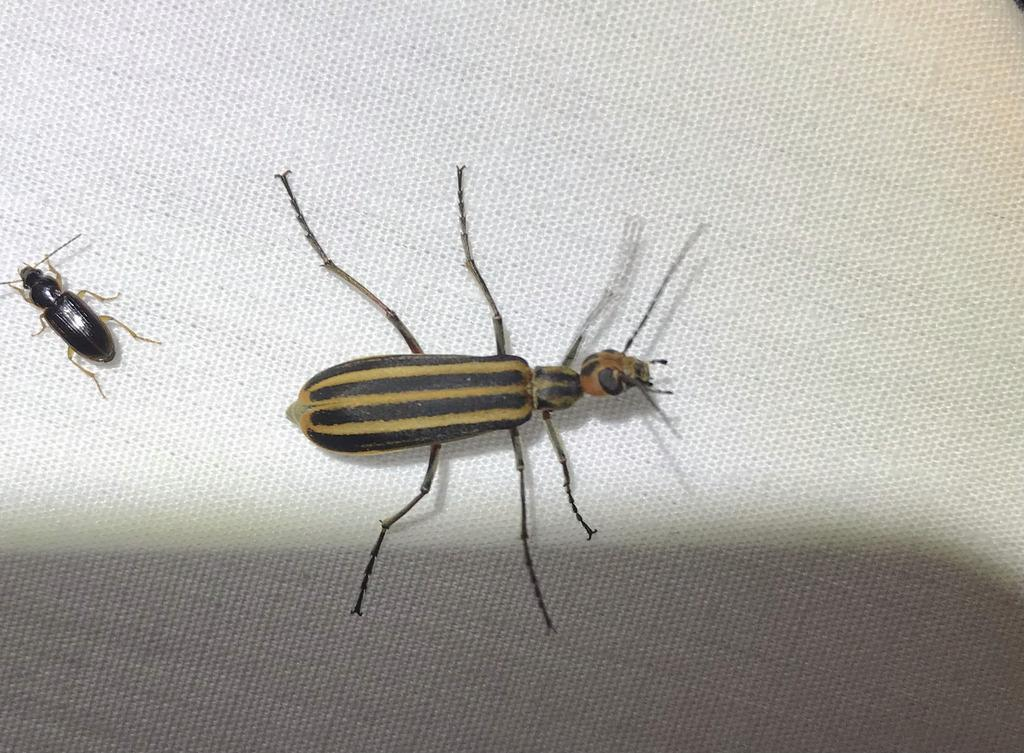blister_beetle: (208, 139, 752, 652)
